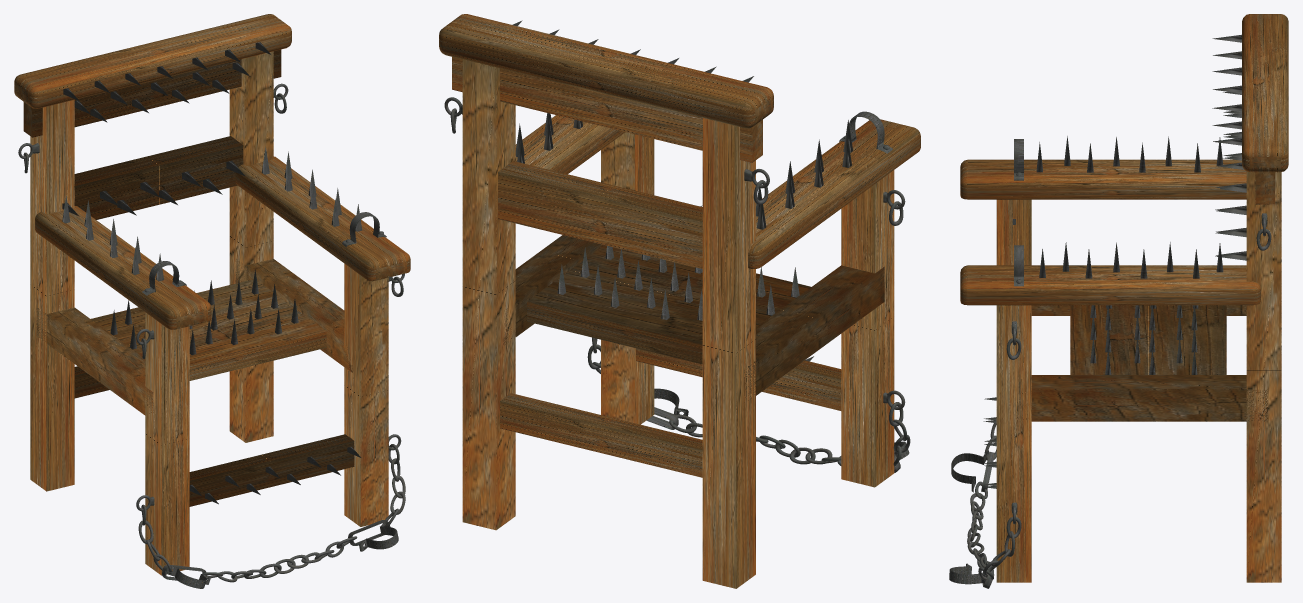
Rendered from chair-of-torture.obj.
The picture shows the model from 3 angles, left to right: view 1: azimuth 30°, elevation 25°; view 2: azimuth 150°, elevation 25°; view 3: azimuth 270°, elevation 25°; orthographic projection. The views are drawn at different scales.
Visible parts, largest first — view 1: Box04, Box03, Box02, Box01, ChamferBox01, Box11, Box09, ChamferBox02, ChamferBox03, Box07, Box05, Box10 (+10 smaller); view 2: Box04, Box03, ChamferBox01, Box11, Box01, Box09, ChamferBox03, Box07, Box10, Box06, Box02, Box05 (+4 smaller); view 3: Box03, ChamferBox02, ChamferBox03, Box08, Box11, Box02, ChamferBox01, Box01, nails1, nails4, nails3, nails2 (+5 smaller).
Boxes of the visible parts, left/top/right/bottom form: Box04: left=30, top=100, right=74, bottom=491; Box03: left=229, top=51, right=273, bottom=442; Box02: left=344, top=263, right=388, bottom=526; Box01: left=145, top=312, right=189, bottom=575; ChamferBox01: left=14, top=14, right=291, bottom=108; Box11: left=91, top=279, right=326, bottom=380; Box09: left=74, top=136, right=243, bottom=219; ChamferBox02: left=235, top=156, right=410, bottom=281; ChamferBox03: left=35, top=206, right=211, bottom=329; Box07: left=36, top=307, right=153, bottom=415; Box05: left=189, top=434, right=354, bottom=506; Box10: left=23, top=49, right=281, bottom=137; Box04: left=702, top=118, right=755, bottom=588; Box03: left=462, top=59, right=515, bottom=530; ChamferBox01: left=439, top=14, right=773, bottom=128; Box11: left=527, top=245, right=810, bottom=364; Box01: left=841, top=170, right=894, bottom=487; Box09: left=498, top=161, right=702, bottom=268; ChamferBox03: left=748, top=119, right=920, bottom=268; Box07: left=744, top=265, right=884, bottom=396; Box10: left=452, top=57, right=762, bottom=162; Box06: left=500, top=393, right=702, bottom=477; Box02: left=601, top=132, right=654, bottom=424; Box05: left=636, top=348, right=841, bottom=410; Box03: left=1246, top=171, right=1281, bottom=582; ChamferBox02: left=960, top=265, right=1260, bottom=305; ChamferBox03: left=960, top=159, right=1246, bottom=199; Box08: left=1017, top=375, right=1267, bottom=421; Box11: left=1070, top=305, right=1226, bottom=374; Box02: left=996, top=305, right=1031, bottom=582; ChamferBox01: left=1242, top=14, right=1288, bottom=172; Box01: left=996, top=199, right=1031, bottom=265; nails1: left=1090, top=305, right=1198, bottom=374; nails4: left=1039, top=242, right=1223, bottom=278; nails3: left=1036, top=136, right=1223, bottom=172; nails2: left=1212, top=34, right=1241, bottom=145.
Size of the model in its own units: 87.25 by 131 by 86.99.
2 materials, 2 textured.
